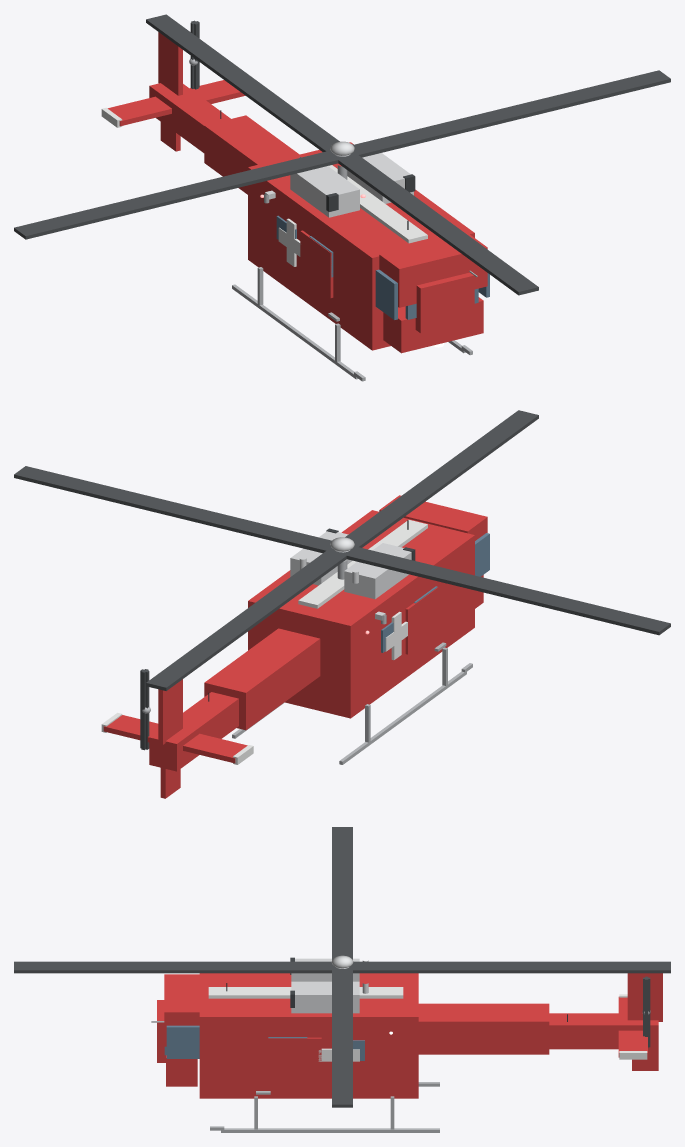
Rendered from heli.glb.
3 renders of one model, top to bottom at view 1: azimuth 30°, elevation 25°; view 2: azimuth 150°, elevation 25°; view 3: azimuth 270°, elevation 25°, orthographic. The views are drawn at different scales.
Parts seen in each view (by area): view 1: fuselage_main, rotor_blade_X_neg, rotor_blade_X_pos, rotor_blade_Z_pos, rotor_blade_Z_neg, nose_upper, tail_boom_front, nose_tip, tail_boom_rear, nose_lower, engine_cowl_L, door_slide_L (+7 smaller); view 2: fuselage_main, tail_boom_front, rotor_blade_X_neg, rotor_blade_X_pos, rotor_blade_Z_neg, rotor_blade_Z_pos, tail_boom_rear, engine_cowl_L, nose_upper, stripe_top, door_slide_L, tail_fin_upper (+5 smaller); view 3: fuselage_main, tail_boom_front, rotor_blade_Z_pos, rotor_blade_Z_neg, tail_boom_rear, rotor_blade_X_pos, rotor_blade_X_neg, door_slide_R, nose_upper, engine_cowl_R, stripe_top, tail_fin_upper (+6 smaller).
Boxes of the visible parts, x1,y1,x2,y2 form: fuselage_main: (248, 142, 474, 350); rotor_blade_X_neg: (14, 150, 347, 239); rotor_blade_X_pos: (353, 70, 670, 157); rotor_blade_Z_pos: (338, 152, 538, 295); rotor_blade_Z_neg: (146, 14, 339, 151); nose_upper: (379, 233, 487, 307); tail_boom_front: (204, 115, 299, 194); nose_tip: (415, 272, 474, 333); tail_boom_rear: (149, 83, 230, 152); nose_lower: (383, 297, 483, 353); engine_cowl_L: (290, 166, 359, 217); door_slide_L: (300, 230, 333, 297); fuselage_main: (248, 510, 474, 718); tail_boom_front: (204, 628, 320, 730); rotor_blade_X_neg: (346, 547, 670, 635); rotor_blade_X_pos: (14, 466, 331, 553); rotor_blade_Z_neg: (146, 547, 352, 690); rotor_blade_Z_pos: (345, 410, 538, 551); tail_boom_rear: (149, 692, 238, 771); engine_cowl_L: (344, 543, 411, 599); nose_upper: (379, 495, 487, 540); stripe_top: (298, 520, 427, 608); door_slide_L: (405, 587, 438, 654); tail_fin_upper: (158, 679, 182, 744); fuselage_main: (199, 973, 418, 1098); tail_boom_front: (418, 1003, 549, 1054); rotor_blade_Z_pos: (14, 961, 331, 973); rotor_blade_Z_neg: (353, 961, 670, 973); tail_boom_rear: (549, 1013, 658, 1049); rotor_blade_X_pos: (332, 966, 352, 1107); rotor_blade_X_neg: (332, 827, 352, 965); door_slide_R: (268, 1037, 321, 1078); nose_upper: (164, 974, 199, 1046); engine_cowl_R: (291, 981, 359, 1013); stripe_top: (208, 987, 403, 998); tail_fin_upper: (627, 973, 662, 1021).
Size of the model in its own units: 10.8 by 2.75 by 10.8.
